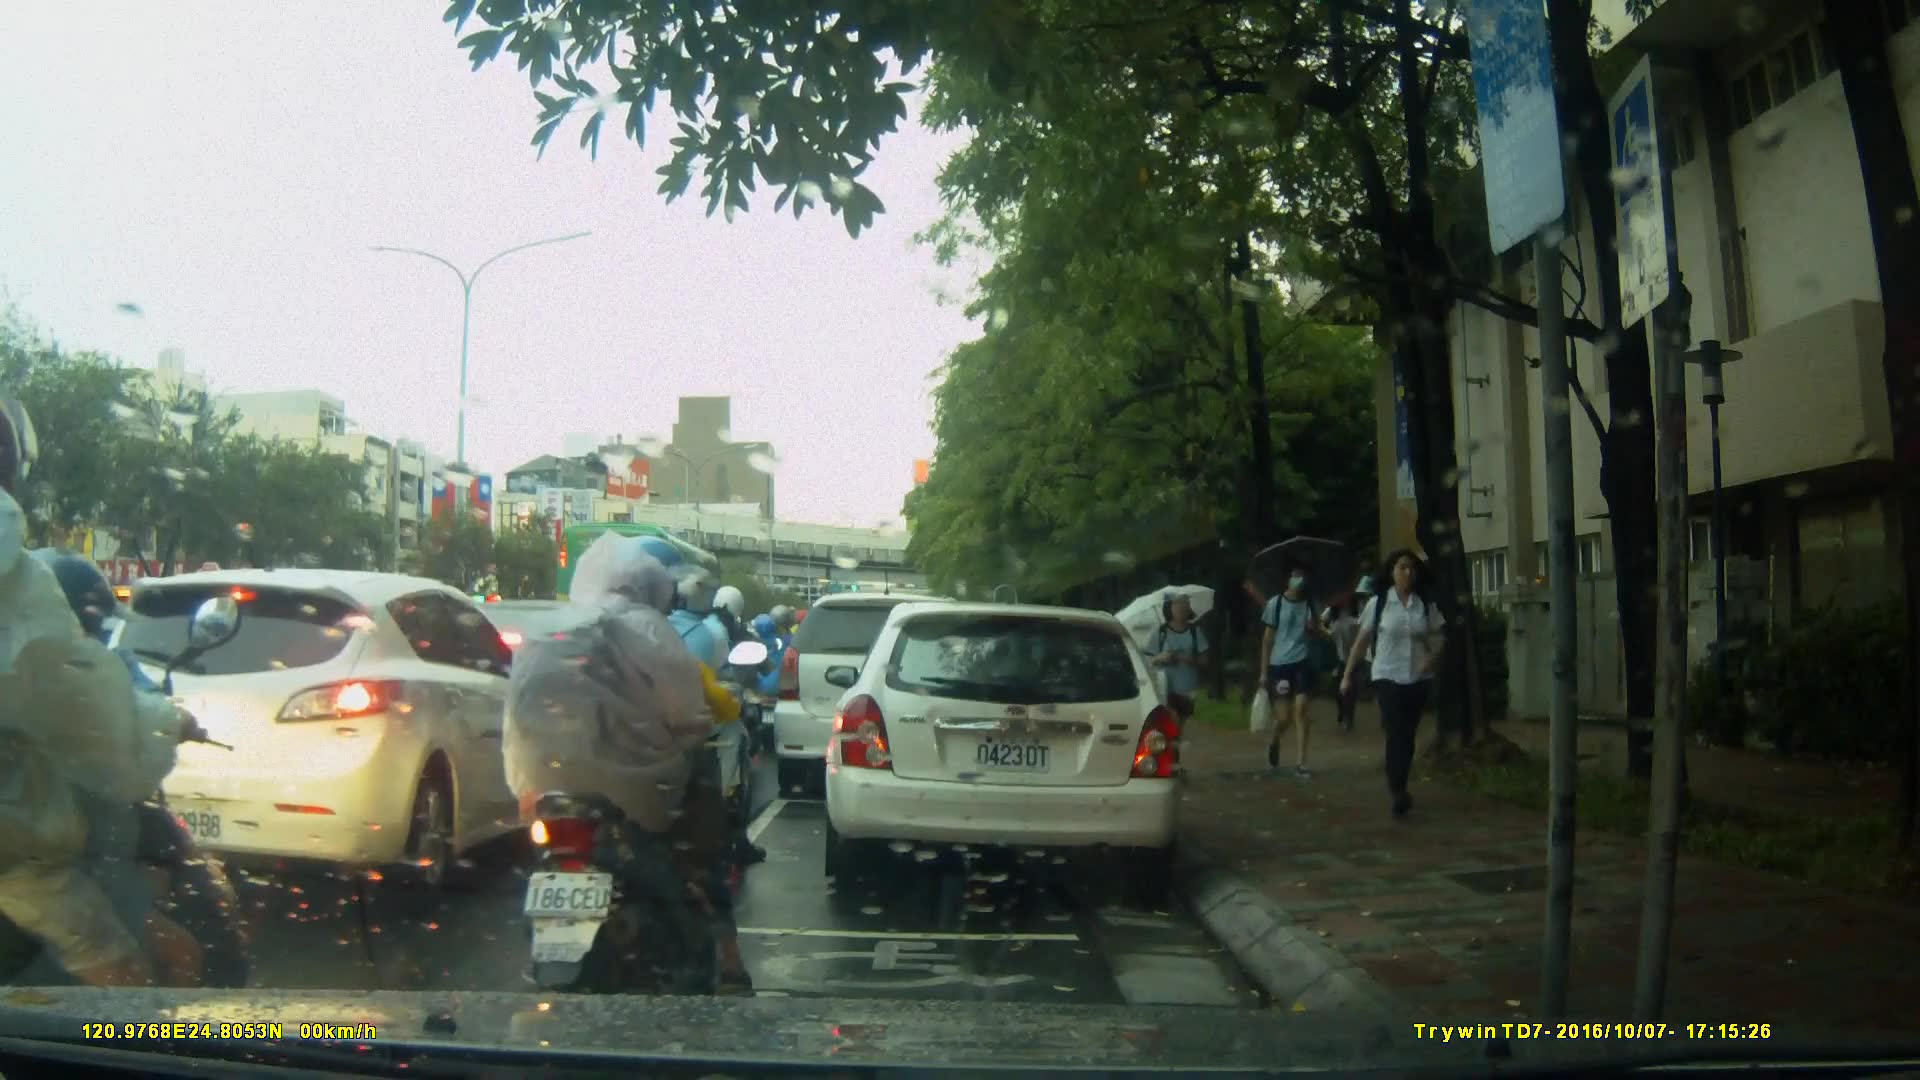pedestrian: (1350, 541, 1460, 828), (1245, 556, 1328, 785), (1148, 585, 1211, 779), (1135, 605, 1175, 739)
rider: (1, 405, 266, 1066), (503, 536, 768, 1005), (606, 562, 743, 870), (643, 579, 759, 840), (737, 602, 798, 746)
vehicle: (87, 568, 589, 886), (822, 604, 1186, 882), (774, 595, 995, 802), (554, 519, 739, 666)
